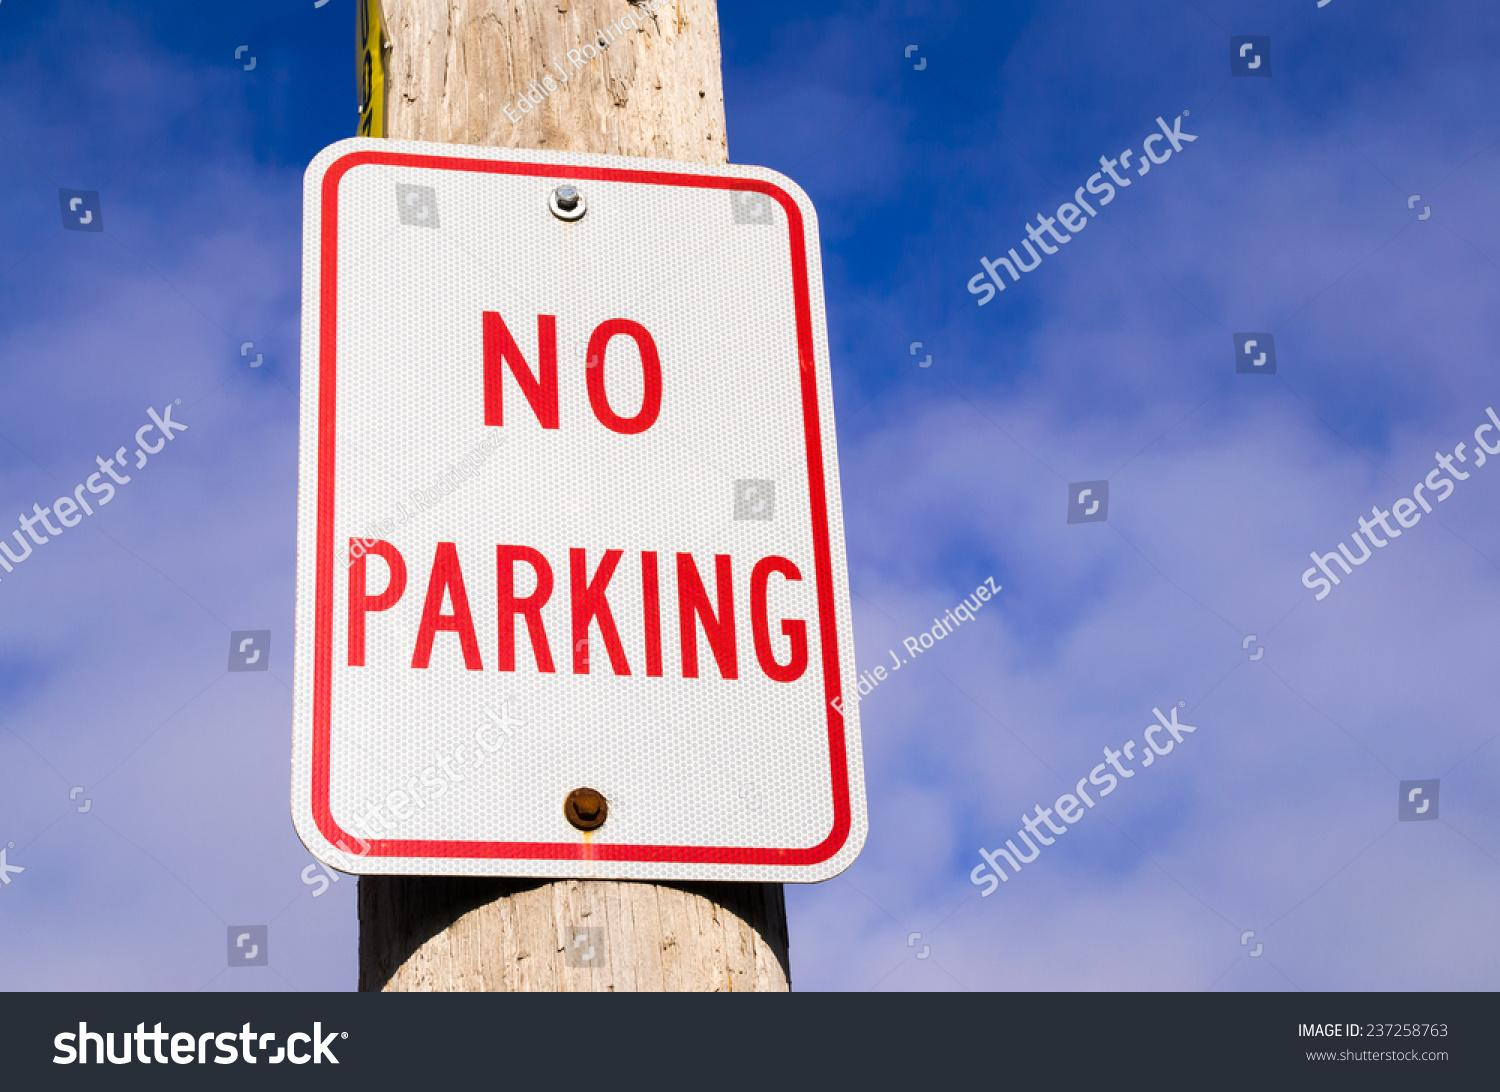No Parking: (318, 215, 827, 743)
